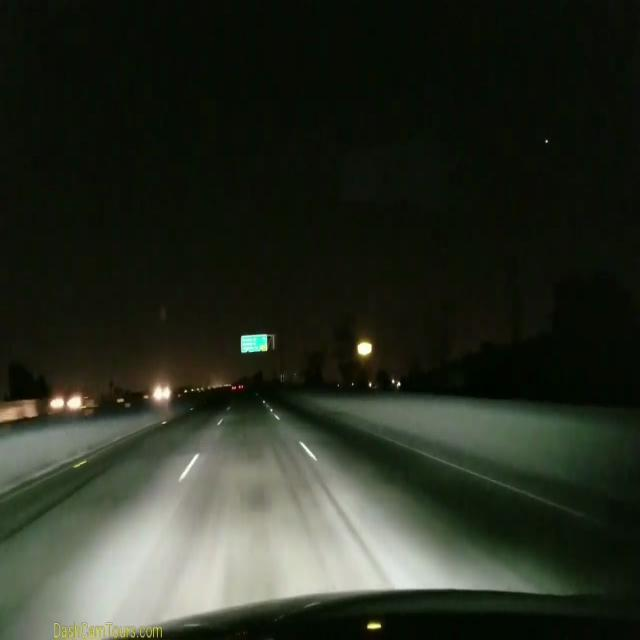street-signs: (241, 334, 267, 352)
